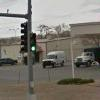traffic lights: (20, 20, 30, 55)
